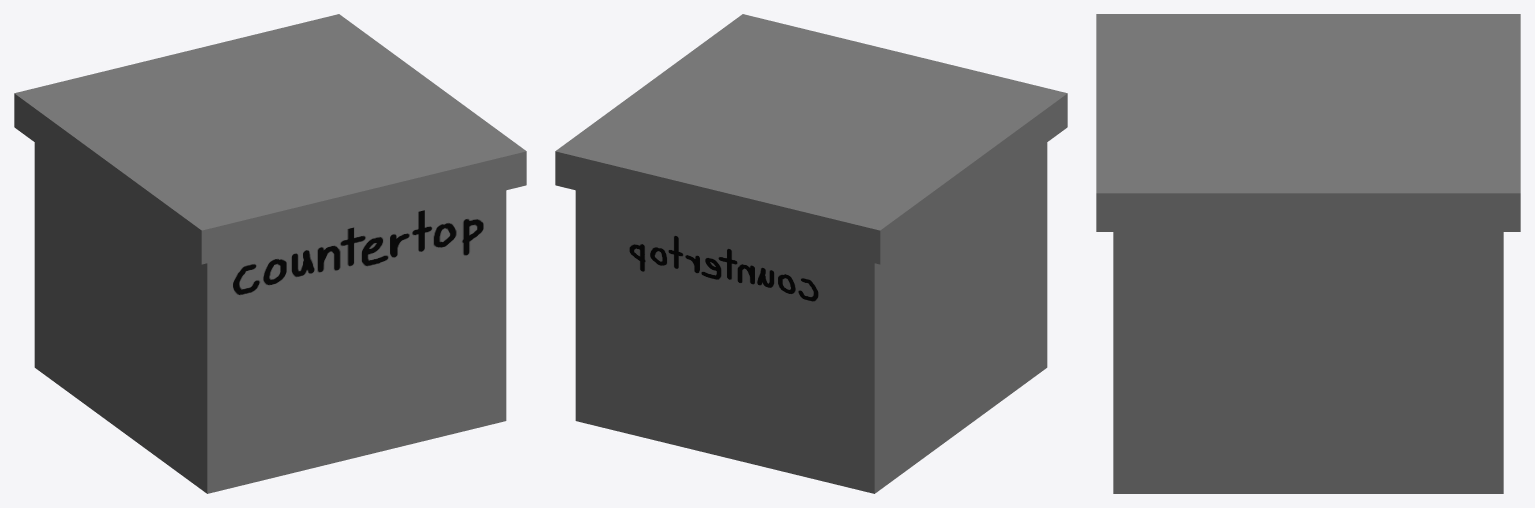
Rendered from furni_countertop_0.glb.
The picture shows the model from 3 angles, left to right: view 1: azimuth 30°, elevation 25°; view 2: azimuth 150°, elevation 25°; view 3: azimuth 270°, elevation 25°; orthographic projection. The views are drawn at different scales.
Visible parts, largest first — view 1: counter; view 2: counter; view 3: counter.
Part boxes in pixels (bbox=[...]): counter: bbox=[14, 14, 526, 493]; counter: bbox=[555, 14, 1067, 493]; counter: bbox=[1096, 14, 1520, 493].
Bounding box in the file's own units: 1 × 0.8 × 1.
1 material, 1 textured.
